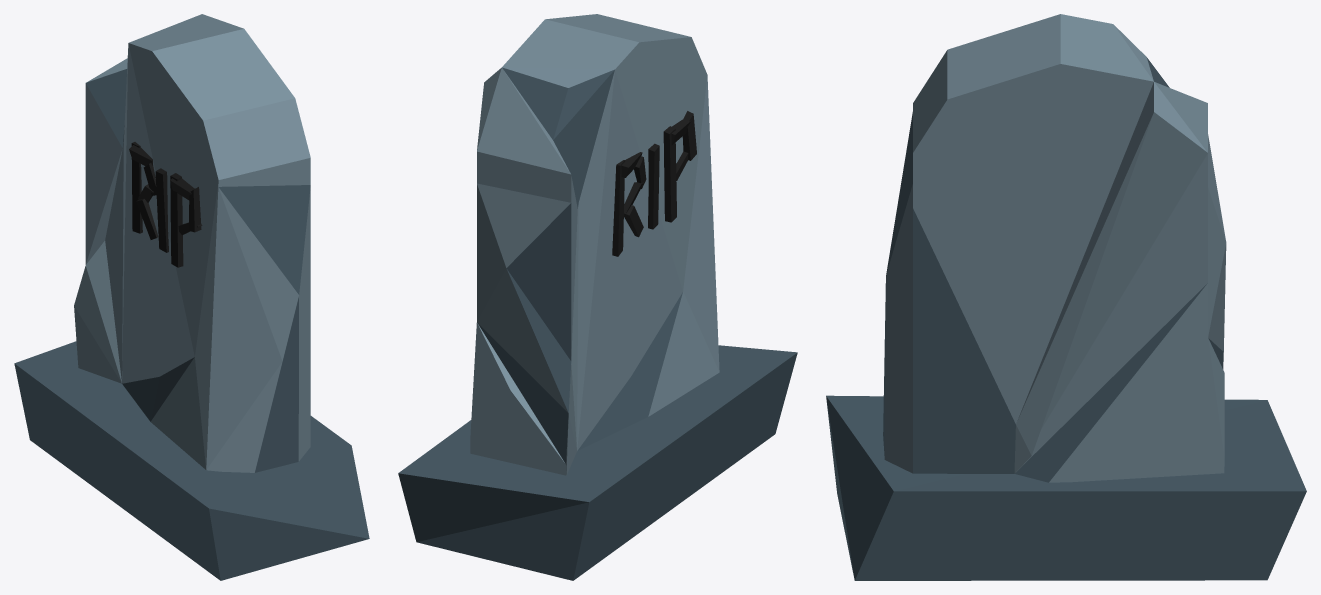
Rendered from Gravestone.glb.
3 views of the same model, side by side, from view 1: azimuth 30°, elevation 25°; view 2: azimuth 150°, elevation 25°; view 3: azimuth 270°, elevation 25° (orthographic). The views are drawn at different scales.
Visible parts, largest first — view 1: group741884468, group1034213151; view 2: group741884468, group1034213151; view 3: group741884468, group1034213151.
Boxes of the visible parts, bbox=[...] form: group741884468: bbox=[74, 14, 310, 472]; group1034213151: bbox=[14, 341, 369, 580]; group741884468: bbox=[470, 14, 719, 475]; group1034213151: bbox=[398, 345, 797, 580]; group741884468: bbox=[883, 14, 1226, 482]; group1034213151: bbox=[826, 395, 1306, 580].
Bounding box in the file's own units: 0.1131 × 0.2802 × 0.2445.
